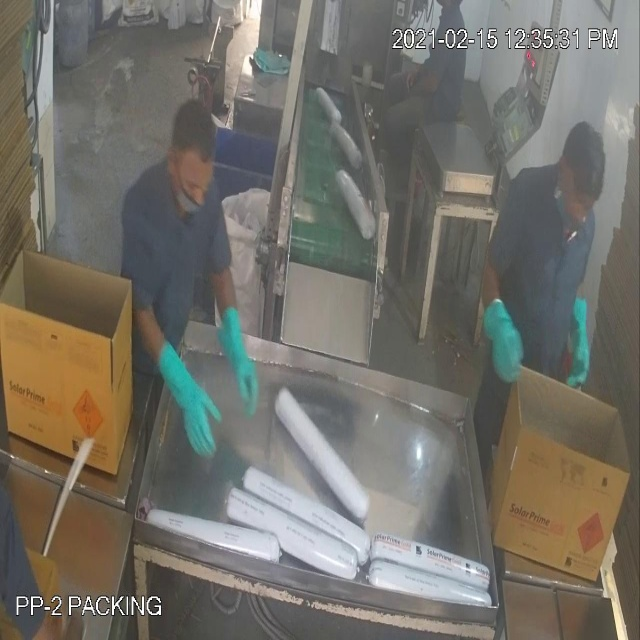Guantes: (146, 319, 225, 476), (212, 281, 275, 443), (480, 290, 535, 388), (563, 276, 598, 398)
